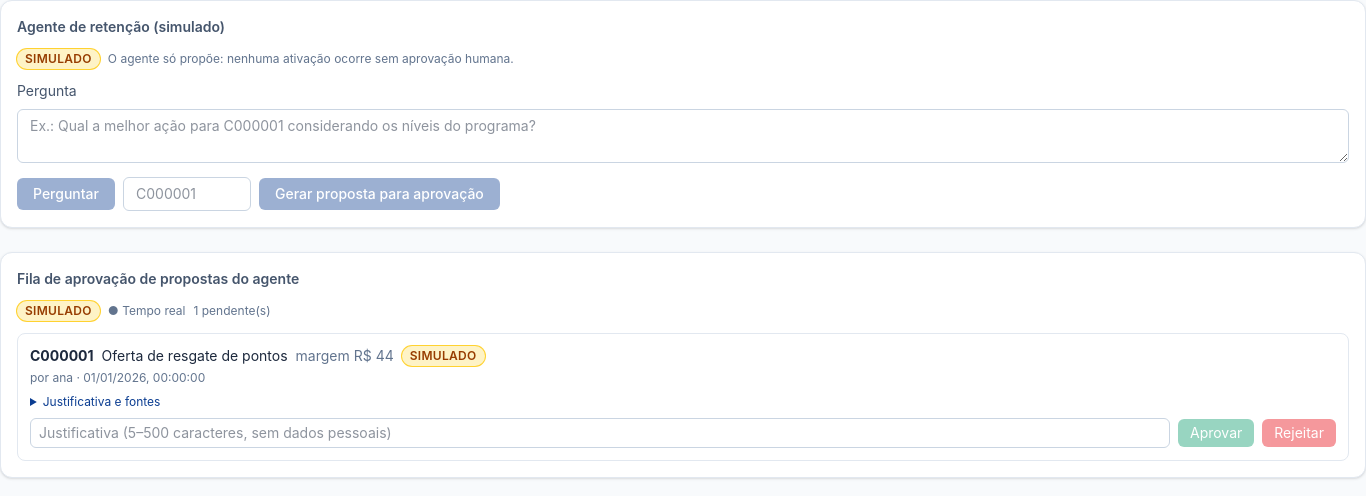
Painel do agente › manager approves with a justification and the item leaves the queue
Expected: the text "C000001" is shown, [30,346,94,366]
Expected: the button "Aprovar" is disabled, [1178,419,1254,447]
Type "Dentro da politica" into the field named "Justificativa para C000001".
click(600, 433); type("Dentro da politica")  # box [30,418,1170,448]
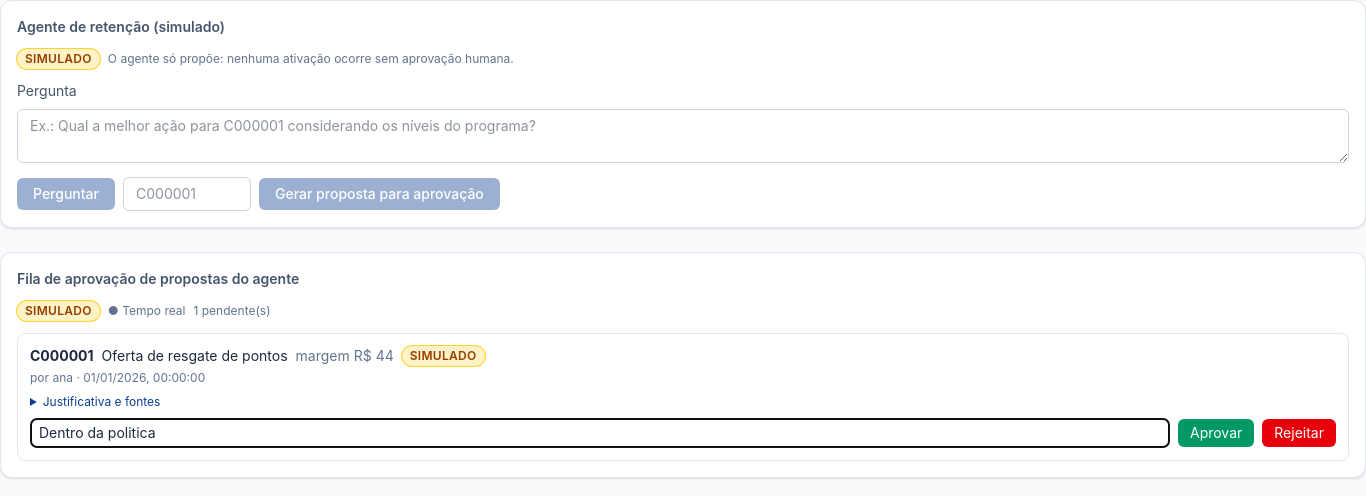
Click the button "Aprovar".
click(1216, 433)  # box [1178,419,1254,447]
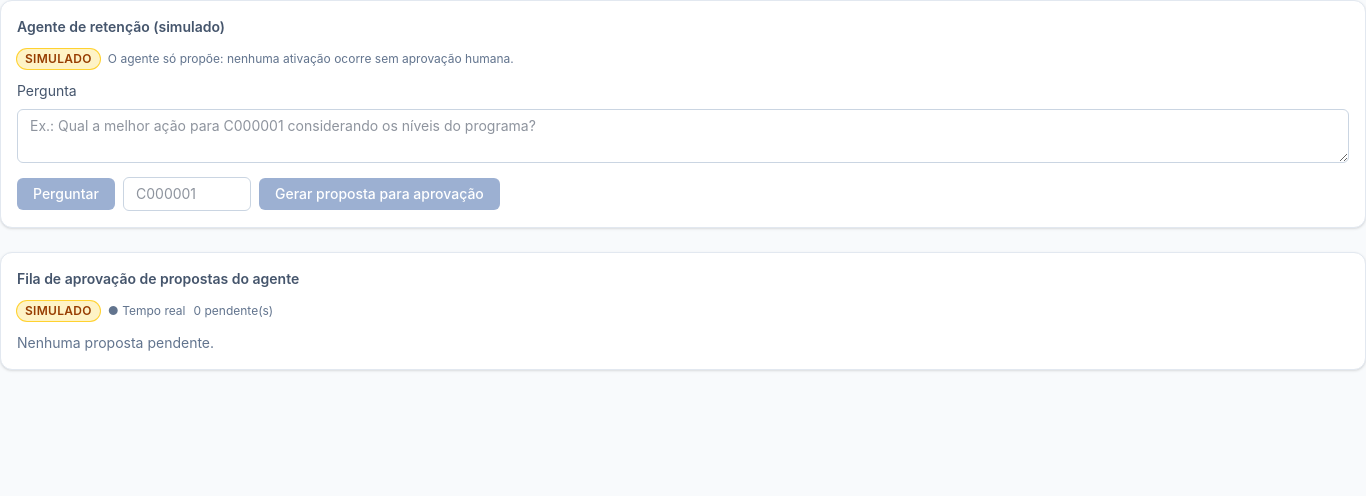
Expected: the text "Nenhuma proposta pendente." is shown, [17,334,214,351]
